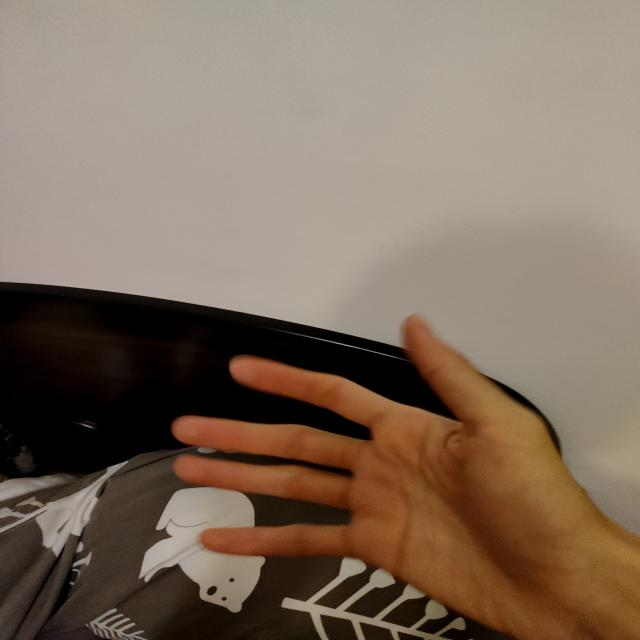no_glove: (164, 294, 638, 640)
